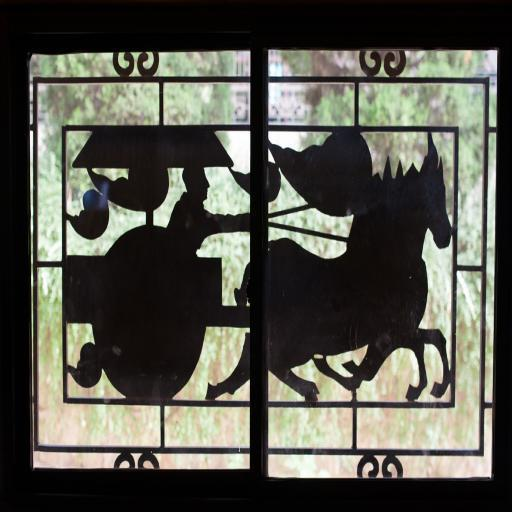horse: (204, 125, 452, 402)
